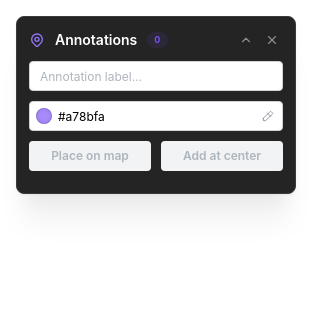
Scenario: AnnotatePanel › reports the point a renderer placed the pending annotation at
Type "Site A" into the field with placeholder "Annotation label…" at x=156, y=76, box [29,61,283,91]
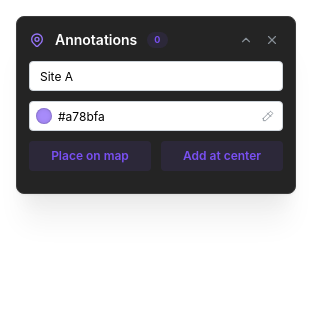
Click the button "Place on map" at x=90, y=156, box [29,141,151,171]
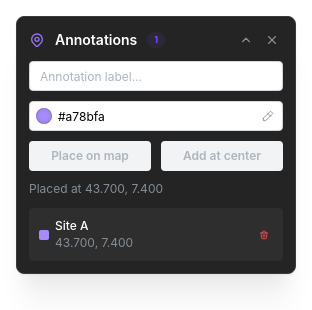
Check: the text with test id "annotate-status" reads "Placed at 43.700, 7.400", box [29,181,163,196]
Check: the element with test id "annotate-count" reads "1", box [154,34,158,45]
Check: the field with placeholder "Annotation label…" is empty, box [29,61,283,91]
